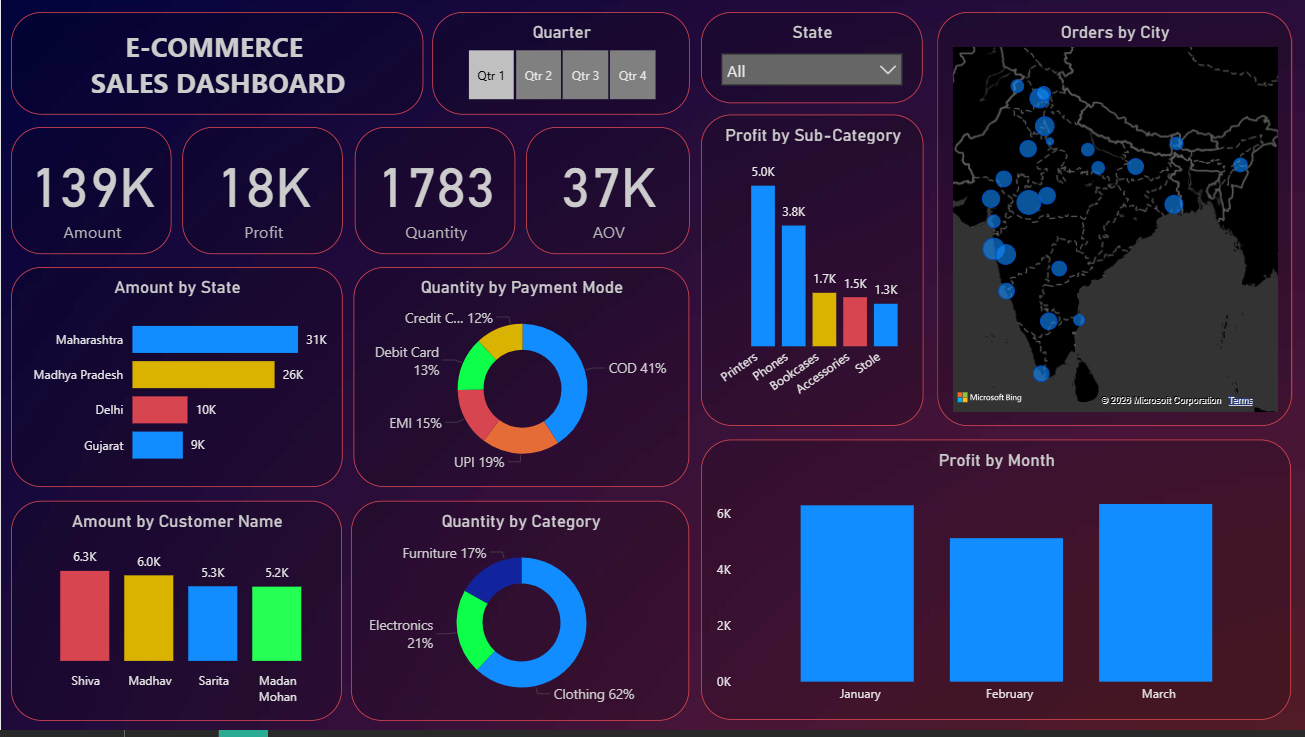

The dashboard page shown, as its layout file describes it:
{"tool":"powerbi","page":{"name":"Page 1","canvas":[1280,720],"ordinal":0},"visuals":[{"type":"textbox","box":[9.9,14.2,404.7,100.8],"z":0},{"type":"columnChart","fields":{"Y":["Details.Profit"],"Category":["Orders.Order Date.Variation.Date Hierarchy.Month"]},"box":[687.3,434.6,579.4,275.5],"z":1000},{"type":"columnChart","fields":{"Category":["Details.Sub-Category"],"Y":["Details.Profit"]},"box":[687.3,115,218.7,305.3],"z":2000},{"type":"donutChart","fields":{"Category":["Details.Category"],"Y":["Details.Quantity"]},"box":[343.7,494.2,332.3,215.9],"z":3000},{"type":"donutChart","fields":{"Y":["Details.Quantity"],"Category":["Details.PaymentMode"]},"box":[346.5,265.6,329.5,215.9],"z":4000},{"type":"card","fields":{"Values":["Details.Amount"]},"box":[9.9,127.8,157.6,125],"z":5000},{"type":"card","fields":{"Values":["Details.Profit"]},"box":[178.5,127.8,157.6,125],"z":6000},{"type":"card","fields":{"Values":["Details.Quantity"]},"box":[347,127.8,157.6,125],"z":7000},{"type":"card","fields":{"Values":["Details.AOV"]},"box":[515.5,127.8,160.5,125],"z":8000},{"type":"barChart","fields":{"Category":["Orders.State"],"Y":["Details.Amount"]},"box":[9.9,265.6,325.2,215.9],"z":9000},{"type":"columnChart","fields":{"Category":["Orders.Customer Name"],"Y":["Details.Amount"]},"box":[10,494.2,325,216],"z":10000},{"type":"slicer","title":"Quarter","fields":{"Values":["Orders.Order Date.Variation.Date Hierarchy.Quarter"]},"box":[423.2,14.2,252.8,100.8],"z":11000},{"type":"slicer","title":"State","fields":{"Values":["Orders.State"]},"box":[687.3,14.2,217.3,89.5],"z":12000},{"type":"map","title":"Orders by City","fields":{"Category":["Orders.City"],"Size":["Orders.Order ID"]},"box":[918.8,14.2,347.9,406.2],"z":13000}]}

Visuals, with their boxes in screenshot pixels (x1, y1, x2, y2), scaled from the page's 1280x720 canvas onto the 1305x737 screenshot:
textbox: crop(10, 15, 423, 118)
columnChart - Details.Profit x Orders.Order Date.Variation.Date Hierarchy.Month: crop(701, 445, 1291, 727)
columnChart - Details.Sub-Category x Details.Profit: crop(701, 118, 924, 430)
donutChart - Details.Category x Details.Quantity: crop(350, 506, 689, 727)
donutChart - Details.Quantity x Details.PaymentMode: crop(353, 272, 689, 493)
card - Details.Amount: crop(10, 131, 171, 259)
card - Details.Profit: crop(182, 131, 343, 259)
card - Details.Quantity: crop(354, 131, 514, 259)
card - Details.AOV: crop(526, 131, 689, 259)
barChart - Orders.State x Details.Amount: crop(10, 272, 342, 493)
columnChart - Orders.Customer Name x Details.Amount: crop(10, 506, 342, 727)
"Quarter" slicer: crop(431, 15, 689, 118)
"State" slicer: crop(701, 15, 922, 106)
"Orders by City" map: crop(937, 15, 1291, 430)
